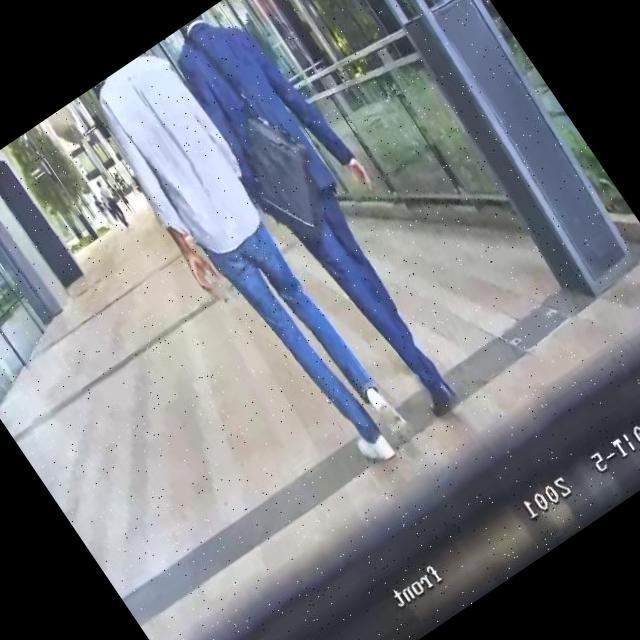person: (76, 41, 428, 493), (151, 0, 505, 436), (90, 176, 134, 232), (112, 181, 136, 214), (90, 194, 114, 225)
